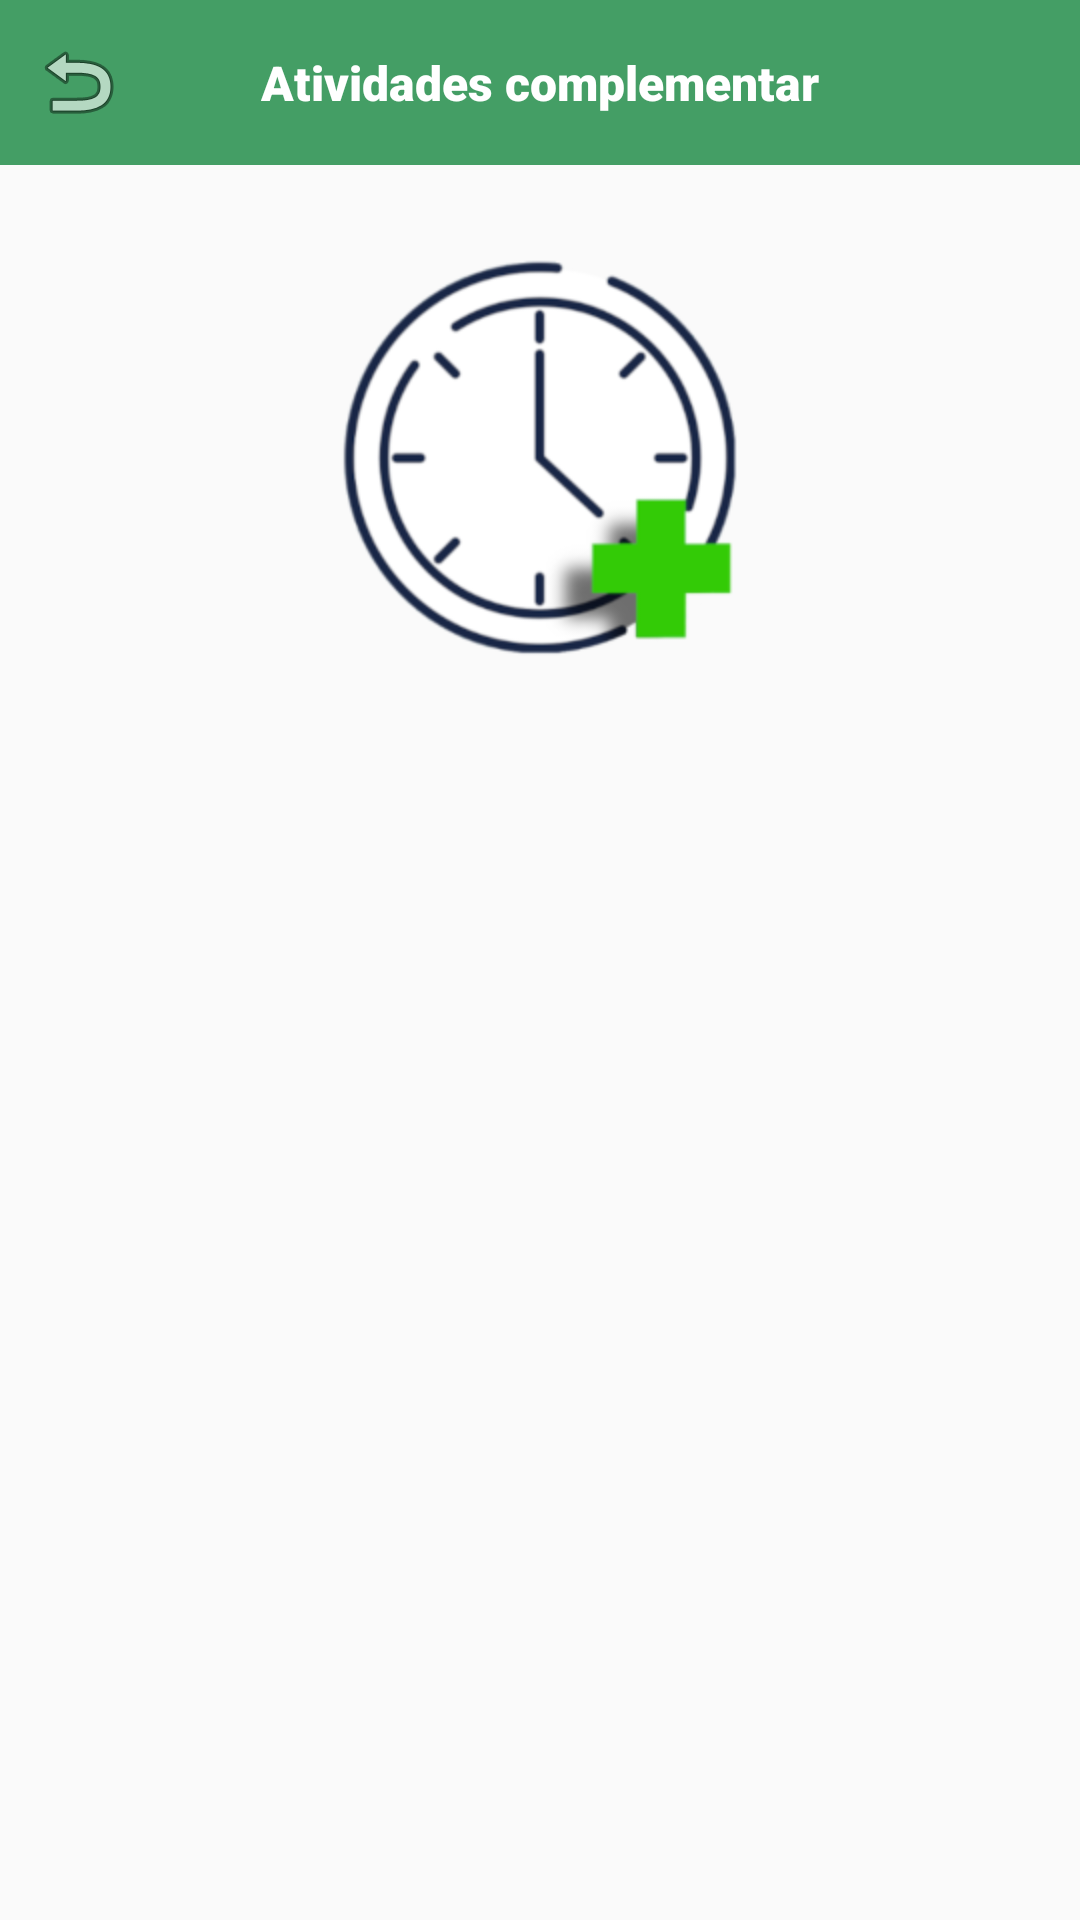

Named icons in this screenshot (1080 × 1920) and their bounding boxes, (x1=x1, y1=y1, x2=x2, y2=y2):
revert: (x1=45, y1=52, x2=114, y2=114)
